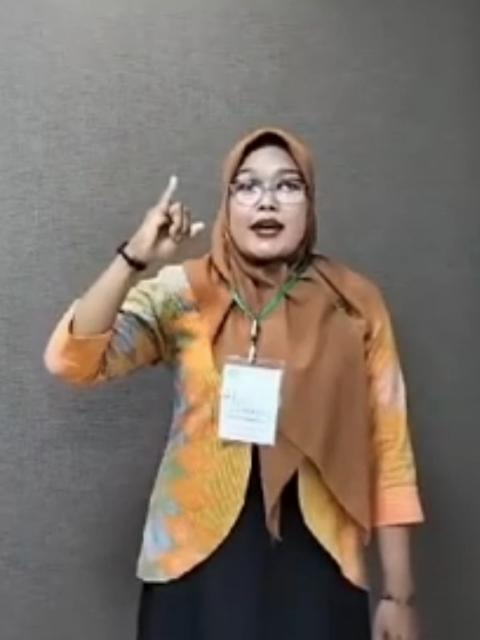J: (128, 168, 207, 268)
